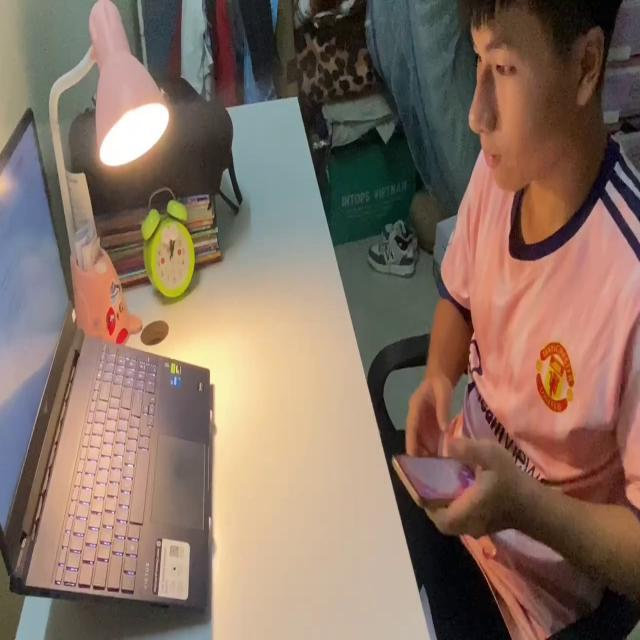laptop: (2, 101, 214, 611)
phone: (389, 444, 479, 508)
student: (390, 0, 640, 640)
